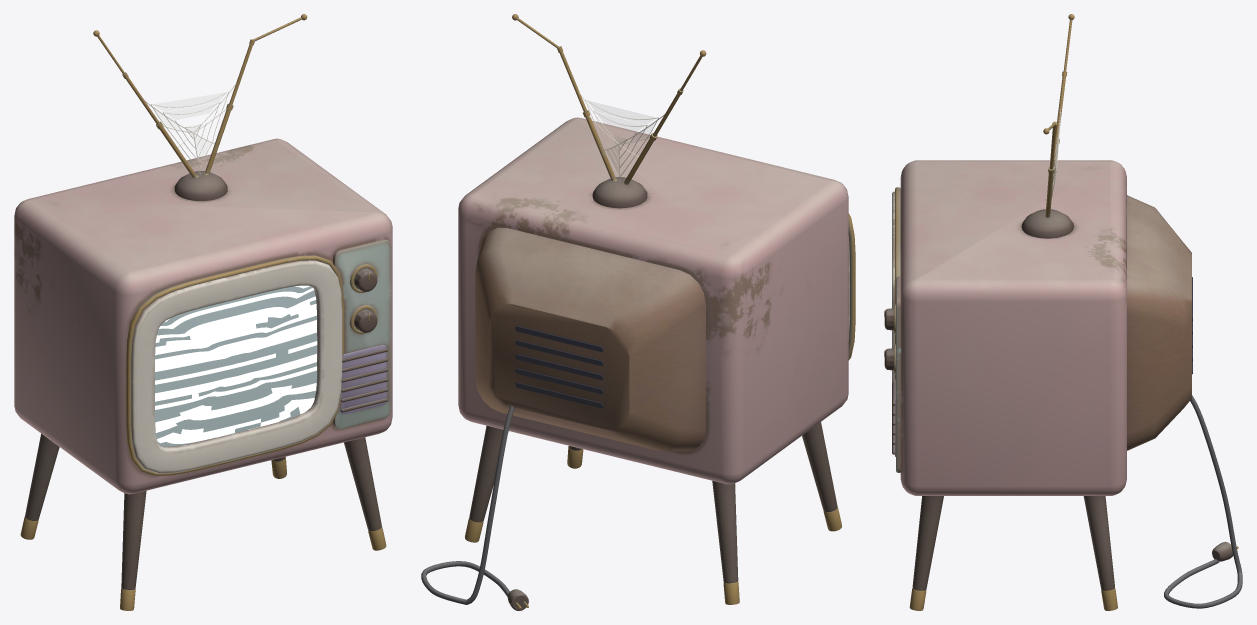
File: old-crt-tv.glb
3 views of the same model, side by side, from view 1: azimuth 30°, elevation 25°; view 2: azimuth 150°, elevation 25°; view 3: azimuth 270°, elevation 25° (orthographic). The views are drawn at different scales.
Parts seen in each view (by area): view 1: old-crt-tv_body, old-crt-tv_screen_glow, old-crt-tv_web; view 2: old-crt-tv_body, old-crt-tv_web; view 3: old-crt-tv_body.
Boxes of the visible parts, <box> form: old-crt-tv_body: <box>14,14,392,610</box>; old-crt-tv_screen_glow: <box>155,285,317,446</box>; old-crt-tv_web: <box>144,84,235,174</box>; old-crt-tv_body: <box>421,14,855,610</box>; old-crt-tv_web: <box>578,91,664,181</box>; old-crt-tv_body: <box>884,14,1242,610</box>.
Bounding box in the file's own units: 0.55 × 0.9724 × 0.6333.
6 materials, 1 textured.
